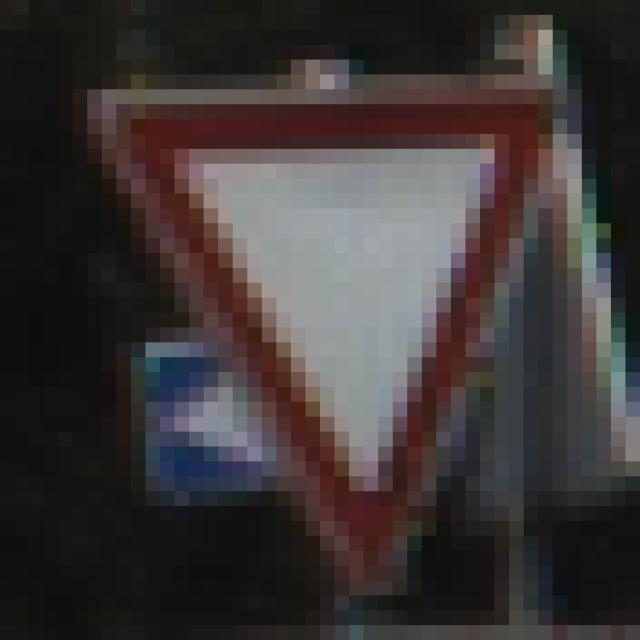Give Way: (89, 76, 569, 567)
